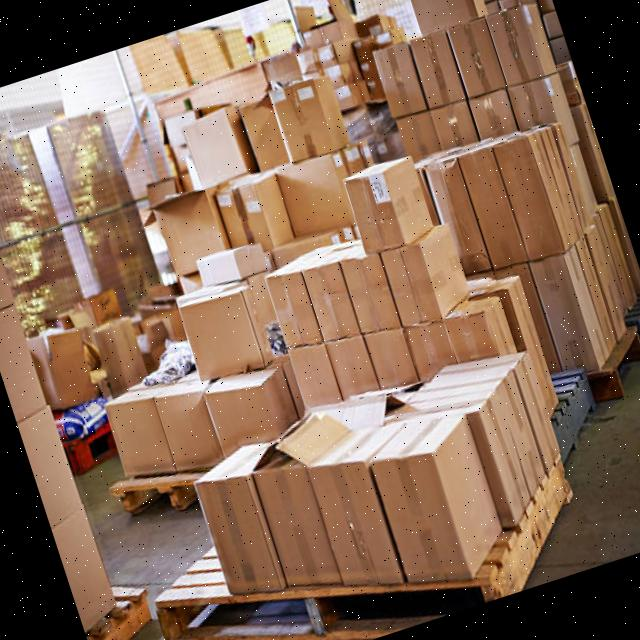Wooden-Pallets: (156, 452, 578, 640)
